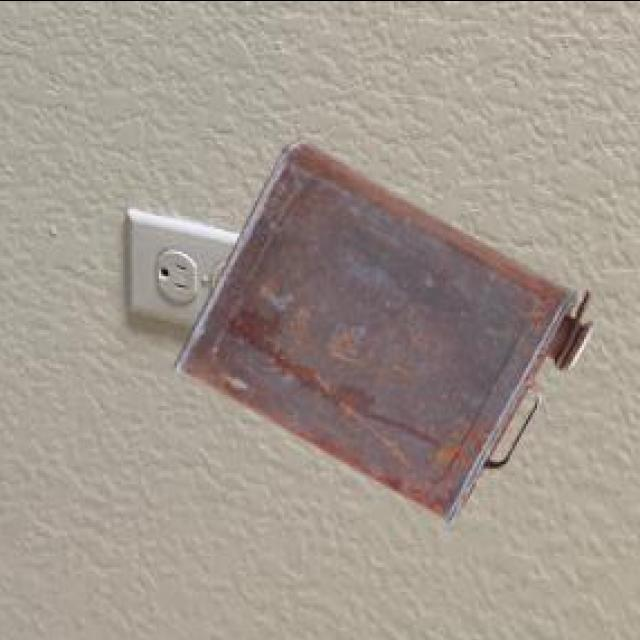logam: (178, 142, 596, 527)
